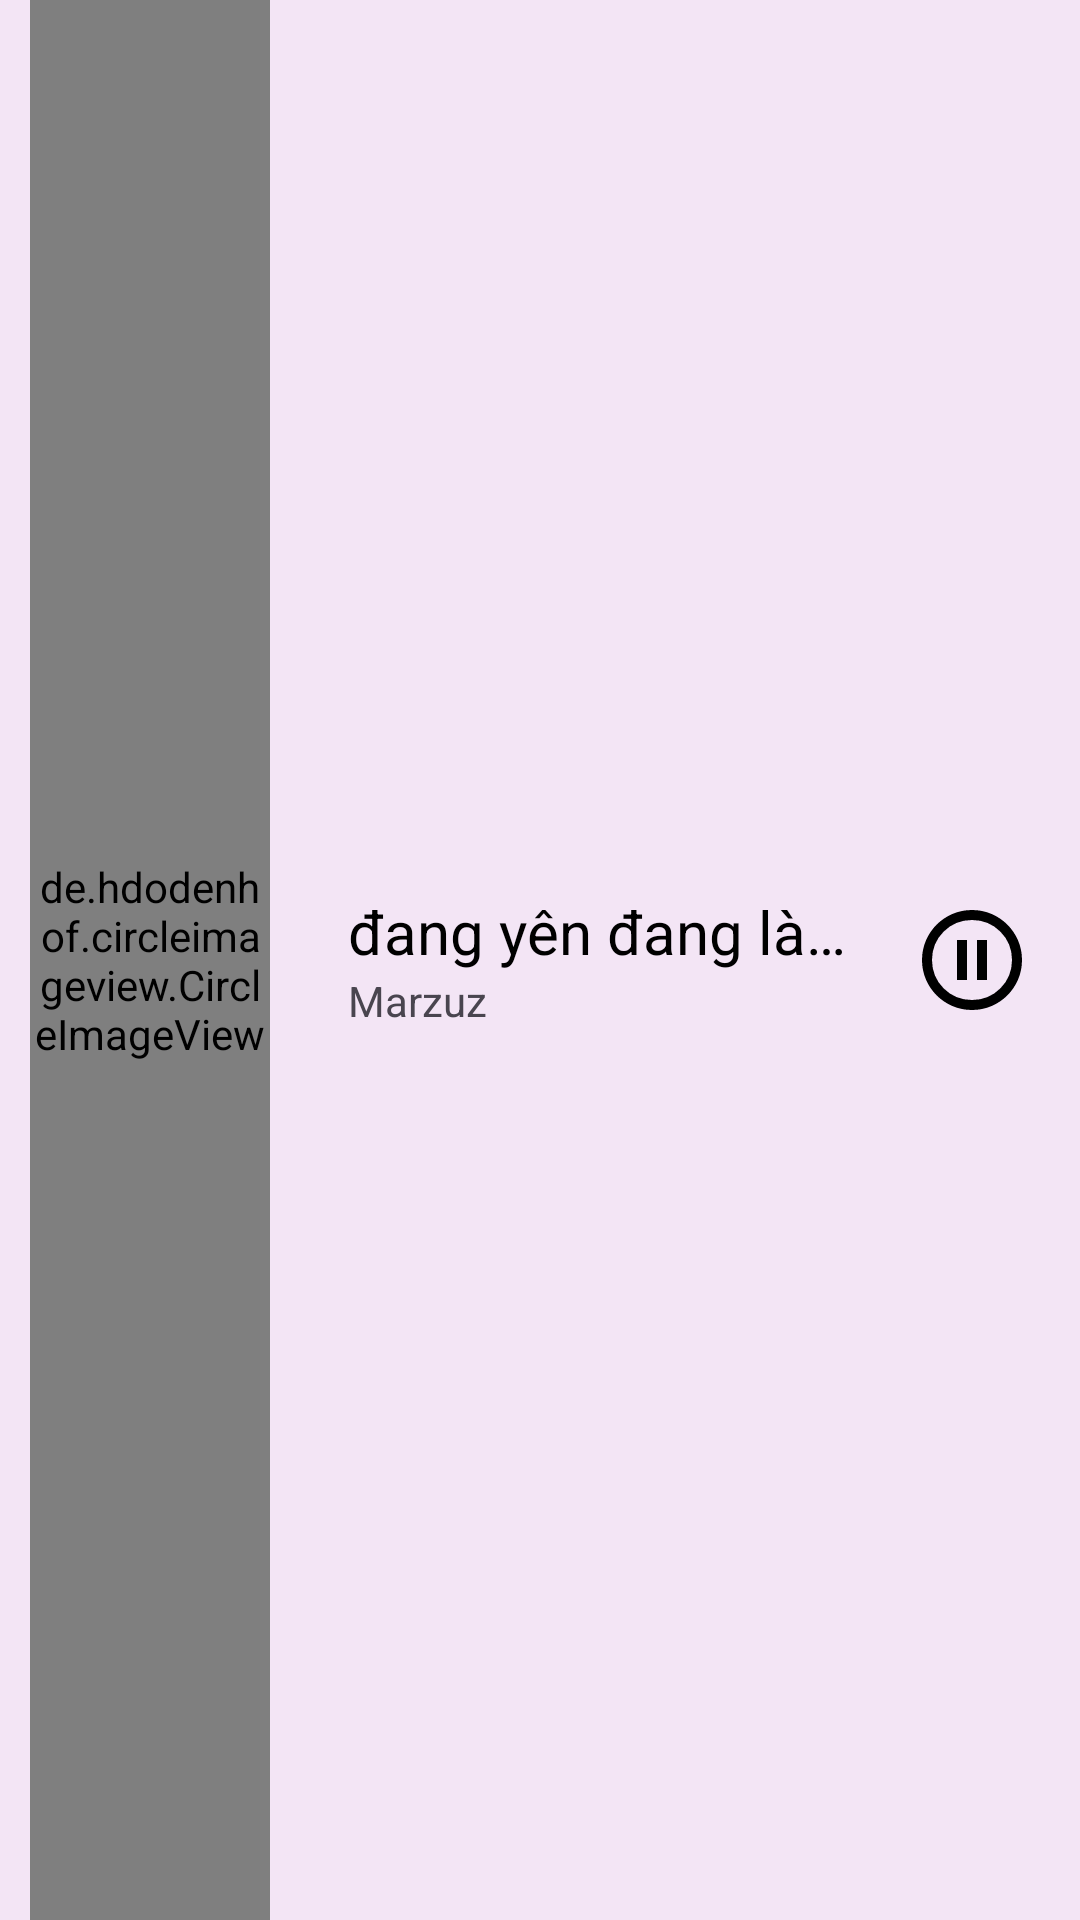

Icon click points for this 1080x1920 phone screenshot, format [x,y]:
pause circle: [972,960]
